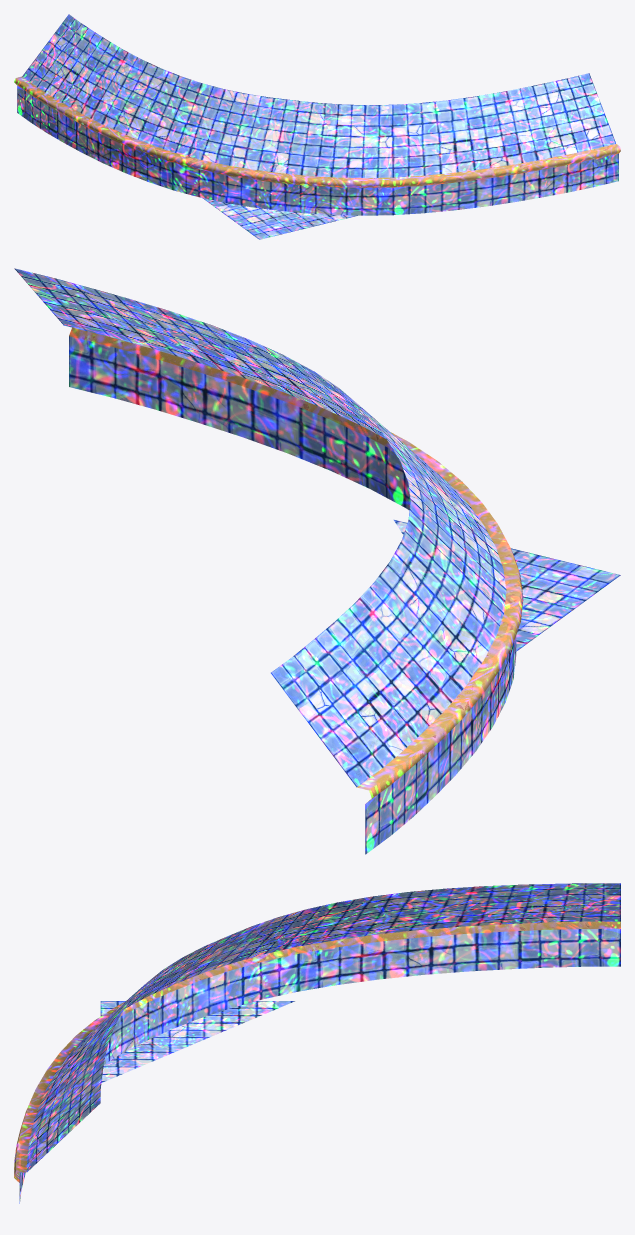
File: water_corner_small_SM.fbx
3 views of the same model, one above another, from view 1: azimuth 30°, elevation 25°; view 2: azimuth 150°, elevation 25°; view 3: azimuth 270°, elevation 25° (orthographic). The views are drawn at different scales.
Visible parts, largest first — view 1: water_corner_small_SM_LOD0; view 2: water_corner_small_SM_LOD0; view 3: water_corner_small_SM_LOD0.
Boxes of the visible parts, box(x1,y1,x2,y2) form: water_corner_small_SM_LOD0: box(14, 14, 620, 239); water_corner_small_SM_LOD0: box(14, 268, 620, 854); water_corner_small_SM_LOD0: box(14, 883, 620, 1203).
Bounding box in the file's own units: 1195 × 1195 × 256.
3 materials, 3 textured.
